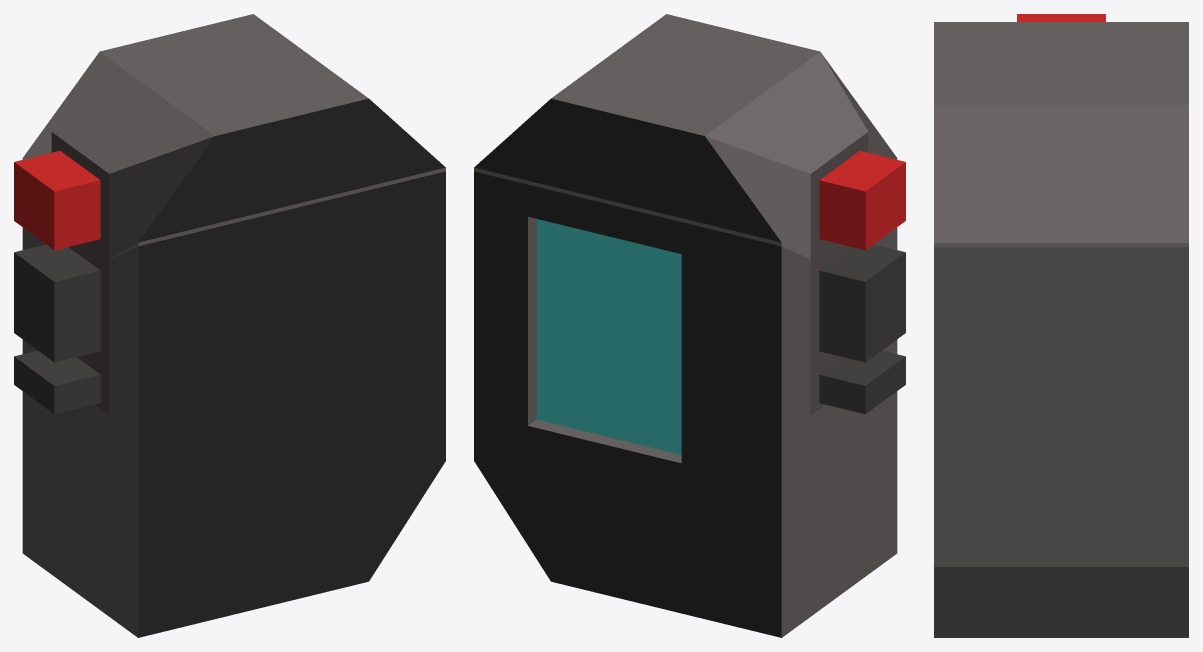
File: HandheldTapeRecorder.gltf
The picture shows the model from 3 angles, left to right: view 1: azimuth 30°, elevation 25°; view 2: azimuth 150°, elevation 25°; view 3: azimuth 270°, elevation 25°; orthographic projection. The views are drawn at different scales.
Parts seen in each view (by area): view 1: recorder; view 2: recorder; view 3: recorder.
Part boxes in pixels (x1=…): recorder: x1=14, y1=14, x2=445, y2=637; recorder: x1=474, y1=14, x2=905, y2=637; recorder: x1=934, y1=14, x2=1188, y2=637.
Bounding box in the file's own units: 0.2875 × 0.375 × 0.1625.
1 material, 1 textured.
